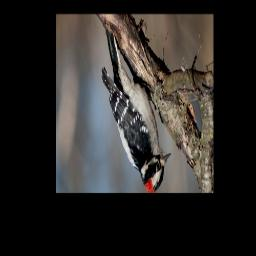Woodpecker: (101, 25, 173, 192)
